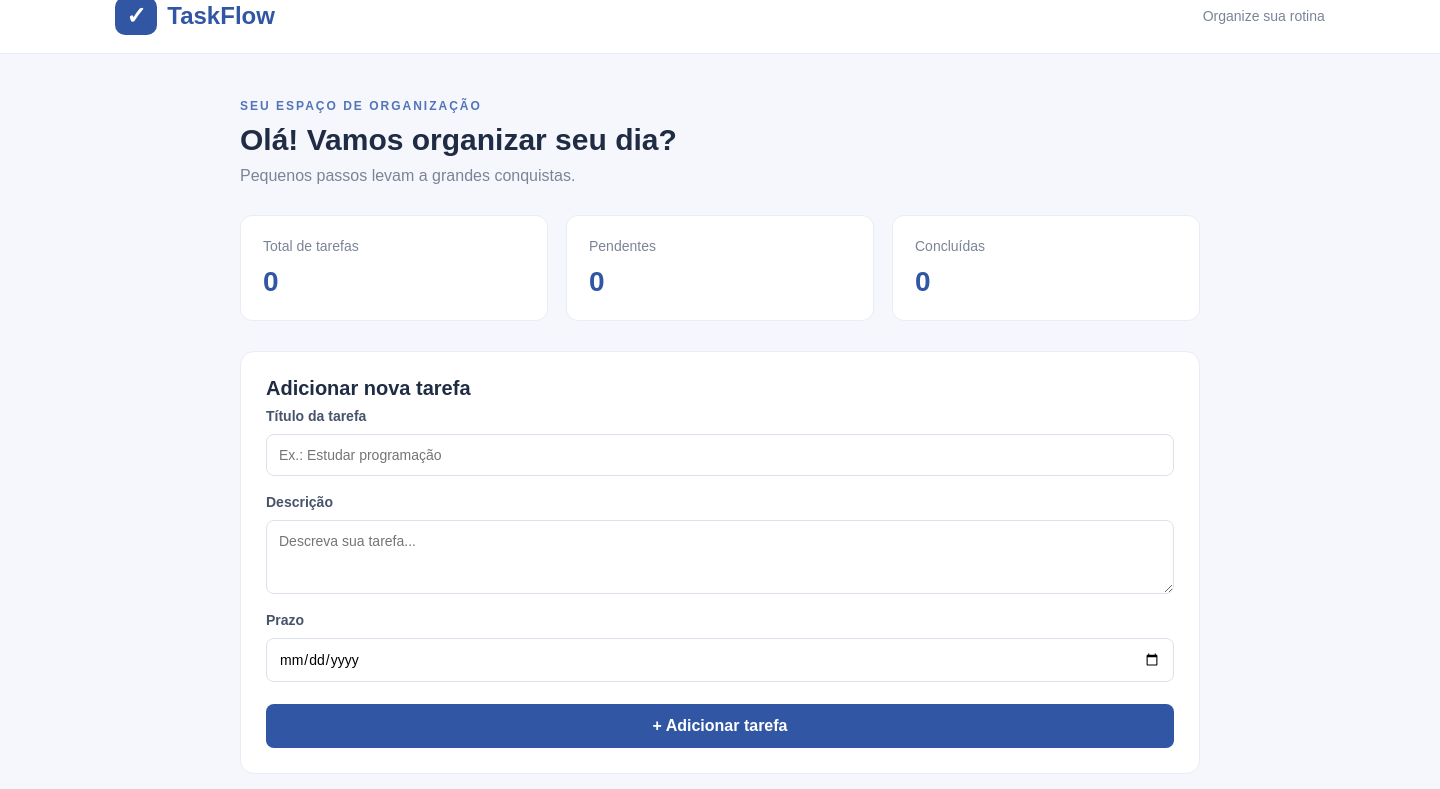
Testes do TaskFlow › deve filtrar as tarefas concluídas
Type "Minha tarefa" into the field labelled "Título da tarefa".
click(720, 455); type("Minha tarefa")  # box [266,434,1174,476]
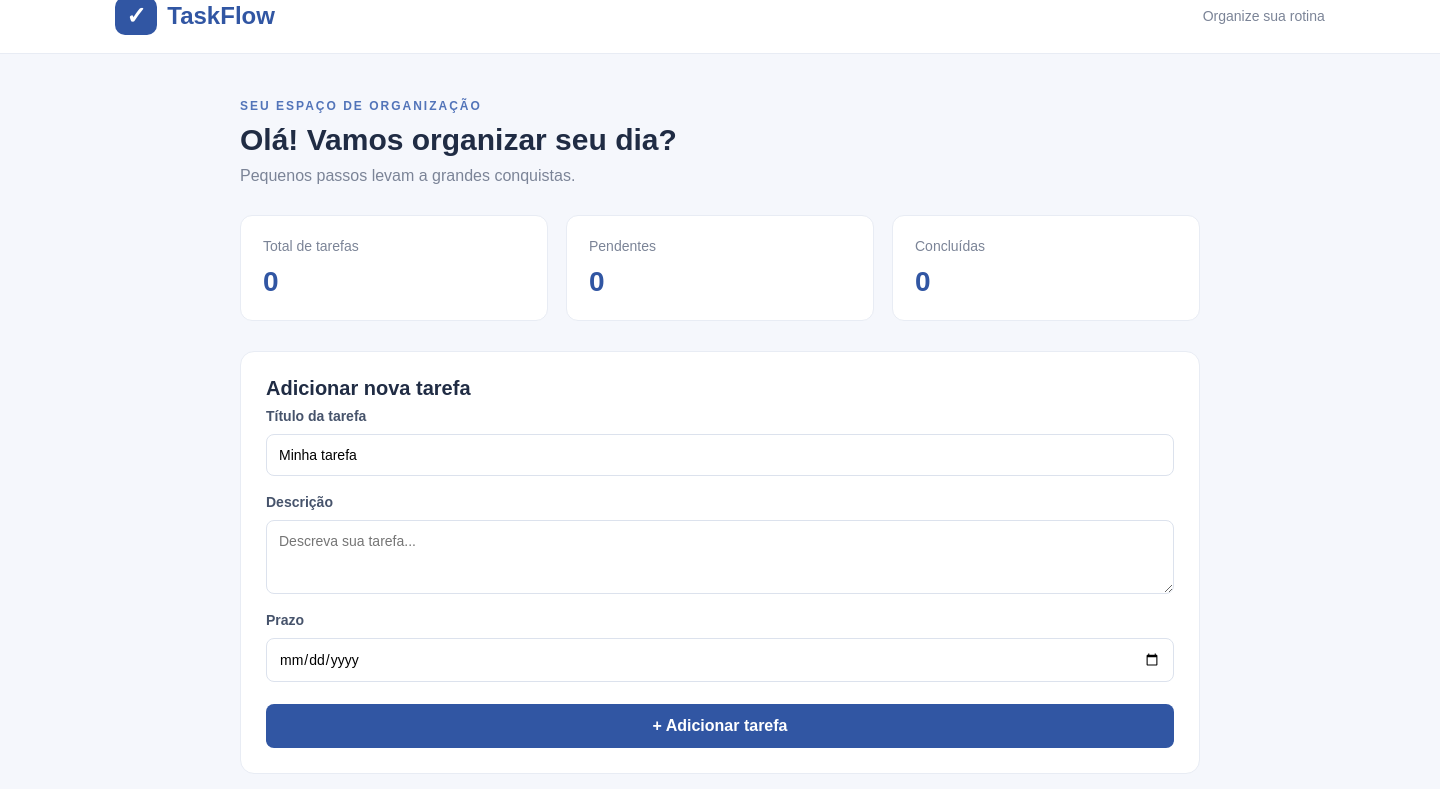
Click the button "+ Adicionar tarefa".
click(720, 726)  # box [266,704,1174,748]
(page scrolled)
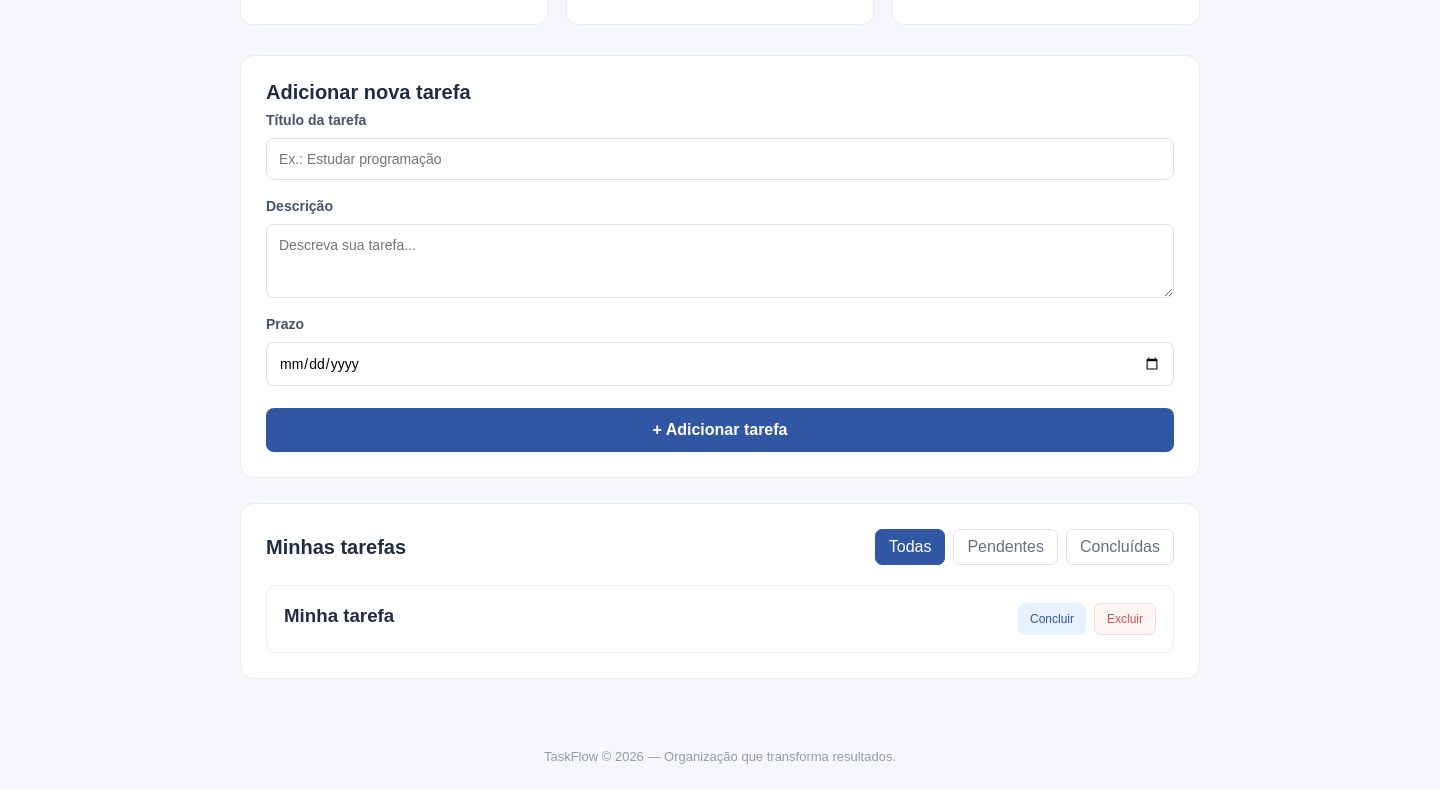
Click the button "Concluir".
click(1052, 619)  # box [1018,603,1086,635]
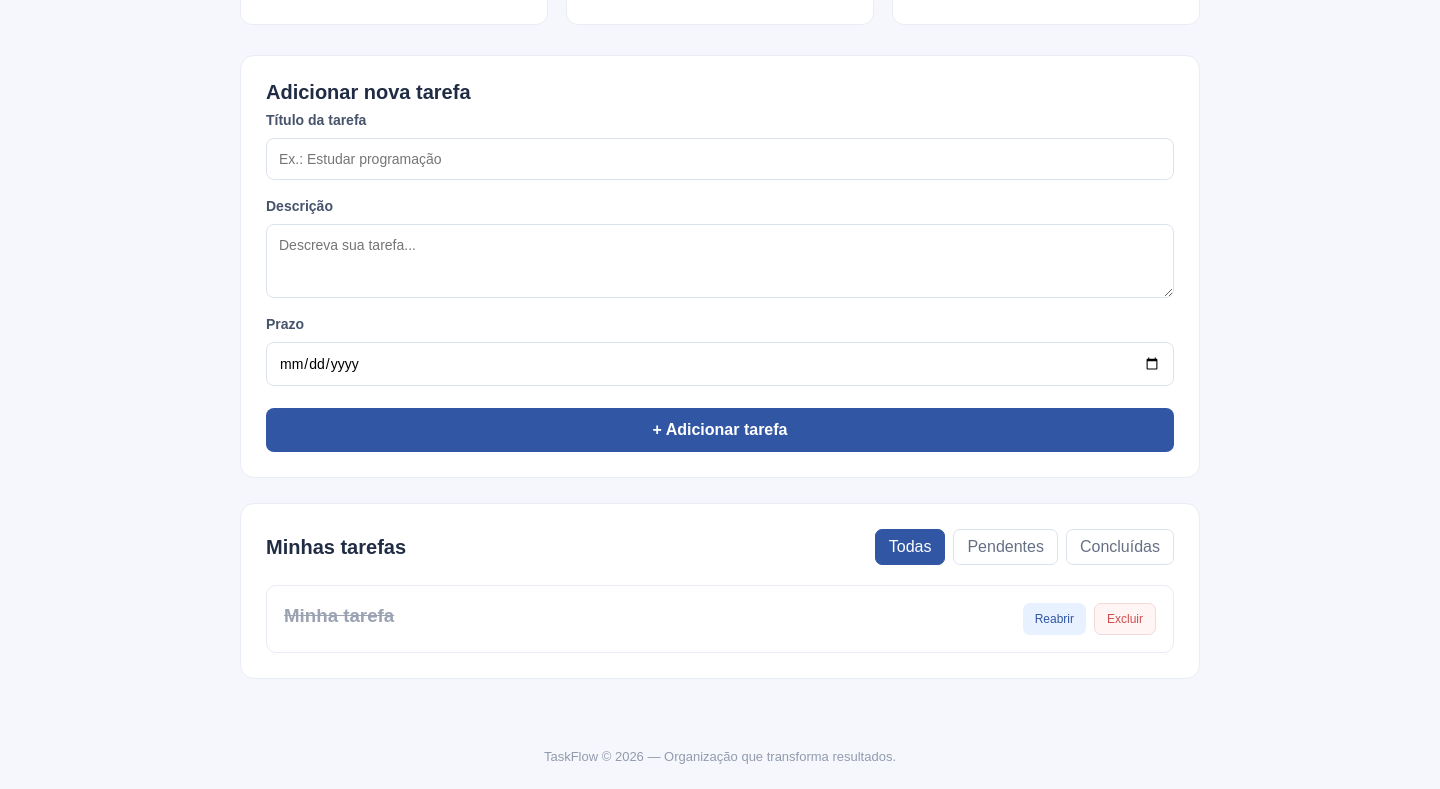
Click the button "Pendentes".
click(1006, 547)  # box [953,529,1058,565]
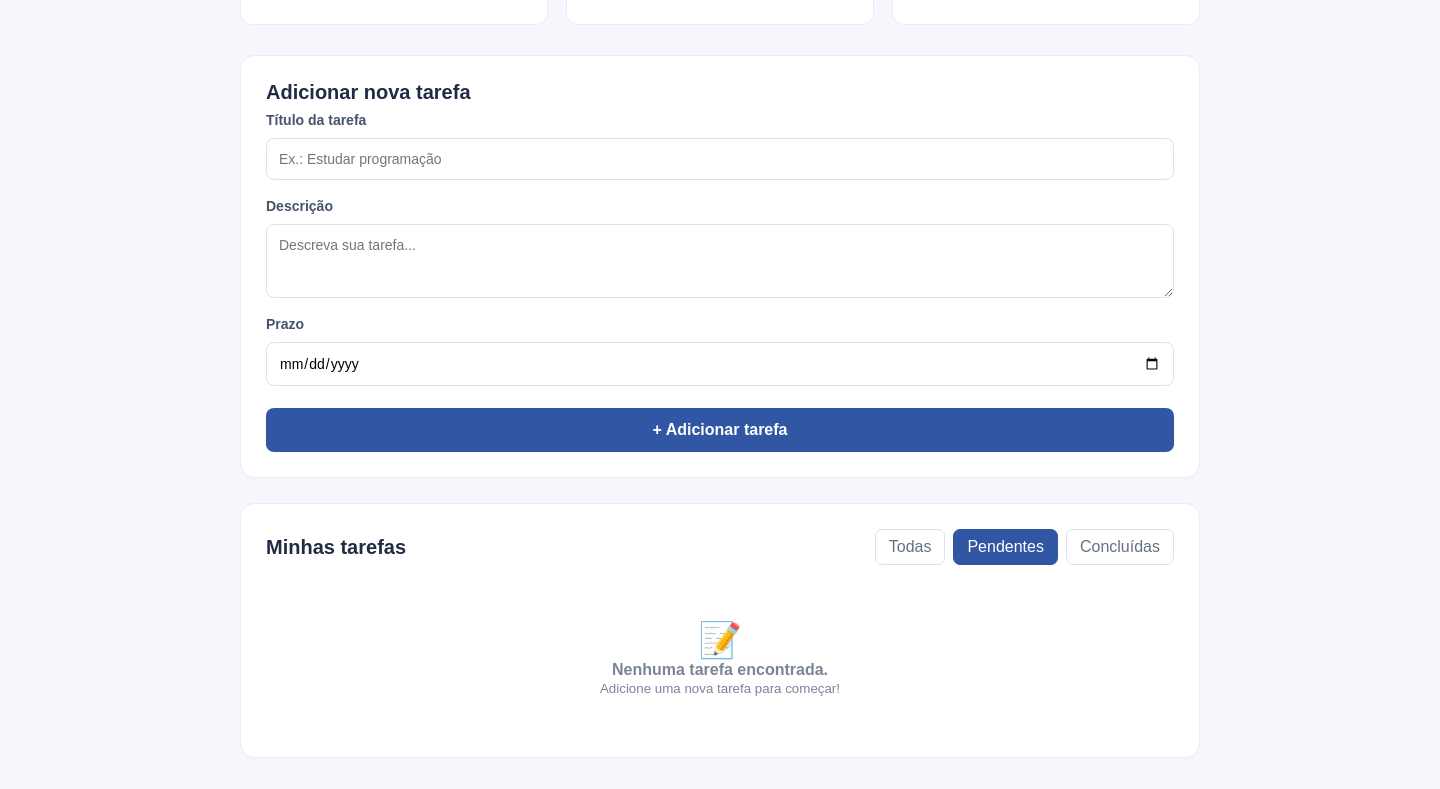
Now the heading "Minha tarefa" is gone
Click the button "Concluídas".
click(1120, 547)  # box [1066,529,1174,565]
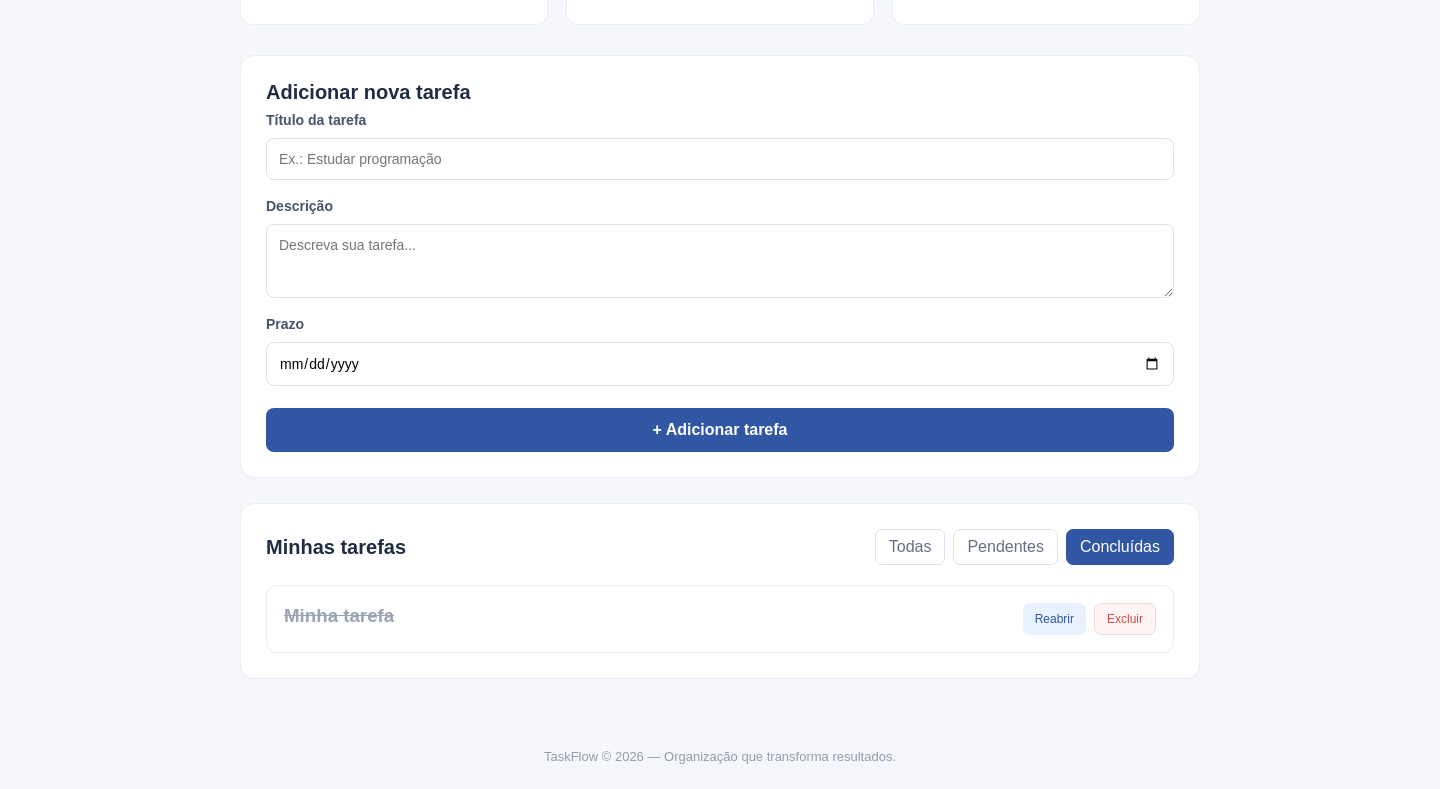
Now the heading "Minha tarefa" is shown, box [284,604,394,626]
